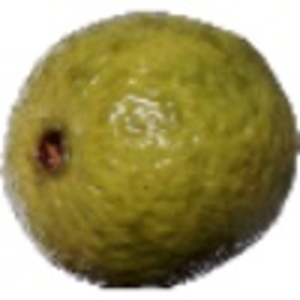goiaba: (3, 6, 298, 291)
